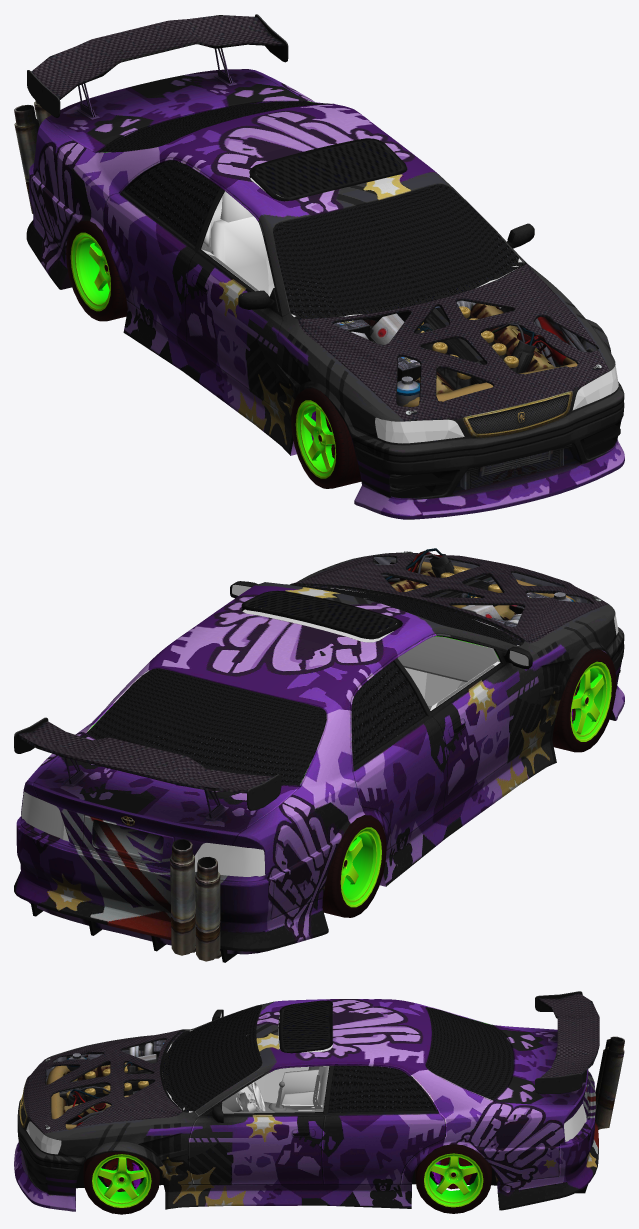
Rendered from AIChaser.fbx.
3 views of the same model, one above another, from view 1: azimuth 30°, elevation 25°; view 2: azimuth 150°, elevation 25°; view 3: azimuth 270°, elevation 25° (orthographic). The views are drawn at different scales.
Visible parts, largest first — view 1: Toyota_chaser_jzx, jzx_windscreen, jzx_engine, r_front_jzx_tyre, r_rear_jzx_tyre, Interior_lo, headlamp_glass; view 2: Toyota_chaser_jzx, jzx_windscreen, r_rear_jzx_tyre, r_front_jzx_tyre, jzx_engine, jzx_interior, headlamp_glass, Interior_lo; view 3: Toyota_chaser_jzx, jzx_windscreen, l_rear_jzx_tyre, l_front_jzx_tyre, jzx_engine, Interior_lo, jzx_seats, jzx_interior, headlamp_glass.
Part boxes in pixels (<box>): Toyota_chaser_jzx: <box>14,14,624,519</box>; jzx_windscreen: <box>97,101,523,318</box>; jzx_engine: <box>333,300,606,492</box>; r_front_jzx_tyre: <box>291,388,361,488</box>; r_rear_jzx_tyre: <box>66,220,127,321</box>; Interior_lo: <box>100,152,522,316</box>; headlamp_glass: <box>375,364,618,443</box>; Toyota_chaser_jzx: <box>14,551,624,962</box>; jzx_windscreen: <box>86,584,521,785</box>; r_rear_jzx_tyre: <box>322,815,386,917</box>; r_front_jzx_tyre: <box>552,649,616,752</box>; jzx_engine: <box>373,548,591,632</box>; jzx_interior: <box>87,598,499,783</box>; headlamp_glass: <box>21,613,618,876</box>; Interior_lo: <box>242,588,519,780</box>; Toyota_chaser_jzx: <box>14,991,624,1211</box>; jzx_windscreen: <box>162,1002,513,1112</box>; l_rear_jzx_tyre: <box>415,1144,491,1213</box>; l_front_jzx_tyre: <box>83,1152,159,1214</box>; jzx_engine: <box>46,1039,165,1129</box>; Interior_lo: <box>167,1013,490,1112</box>; jzx_seats: <box>278,1069,320,1104</box>; jzx_interior: <box>171,1020,489,1113</box>; headlamp_glass: <box>26,1104,586,1154</box>.
Size of what is drawn, in the model's own units: 2.2 by 1.42 by 5.39.
